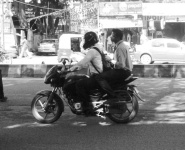Helmet: (81, 30, 99, 50)
